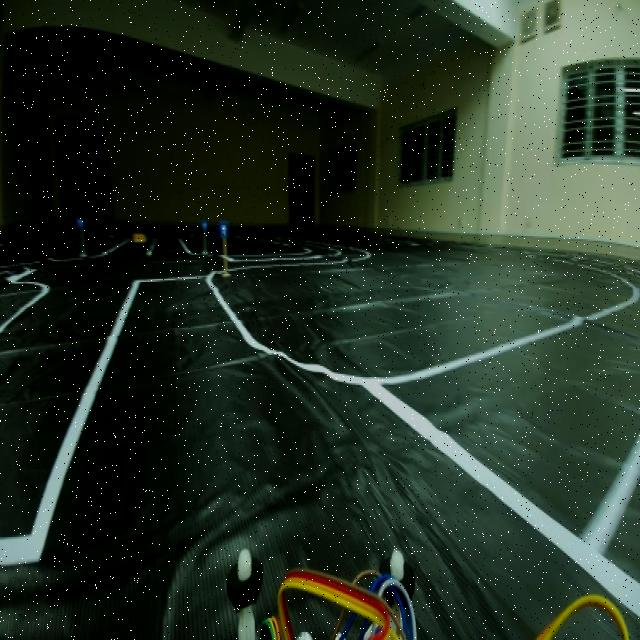onewayroad: (217, 216, 231, 240), (200, 216, 208, 234), (74, 214, 82, 228)
roadblock: (131, 231, 152, 246)
